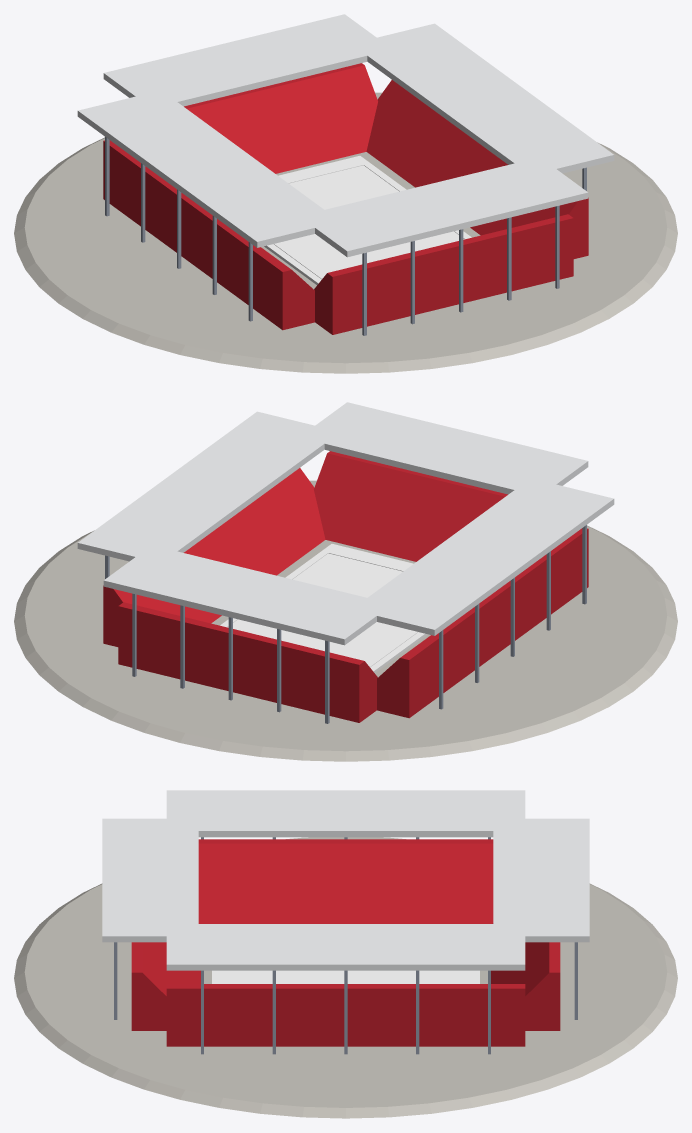
The model's file is st_bmofield.glb.
3 views of the same model, one above another, from view 1: azimuth 30°, elevation 25°; view 2: azimuth 150°, elevation 25°; view 3: azimuth 270°, elevation 25° (orthographic).
Visible parts, largest first — view 1: st_bmofield; view 2: st_bmofield; view 3: st_bmofield.
Part boxes in pixels (x1,y1,x2,y2): st_bmofield: (14,14,677,373); st_bmofield: (14,402,677,761); st_bmofield: (14,790,677,1118).
Bounding box in the file's own units: 24.8 × 4.15 × 24.8.
